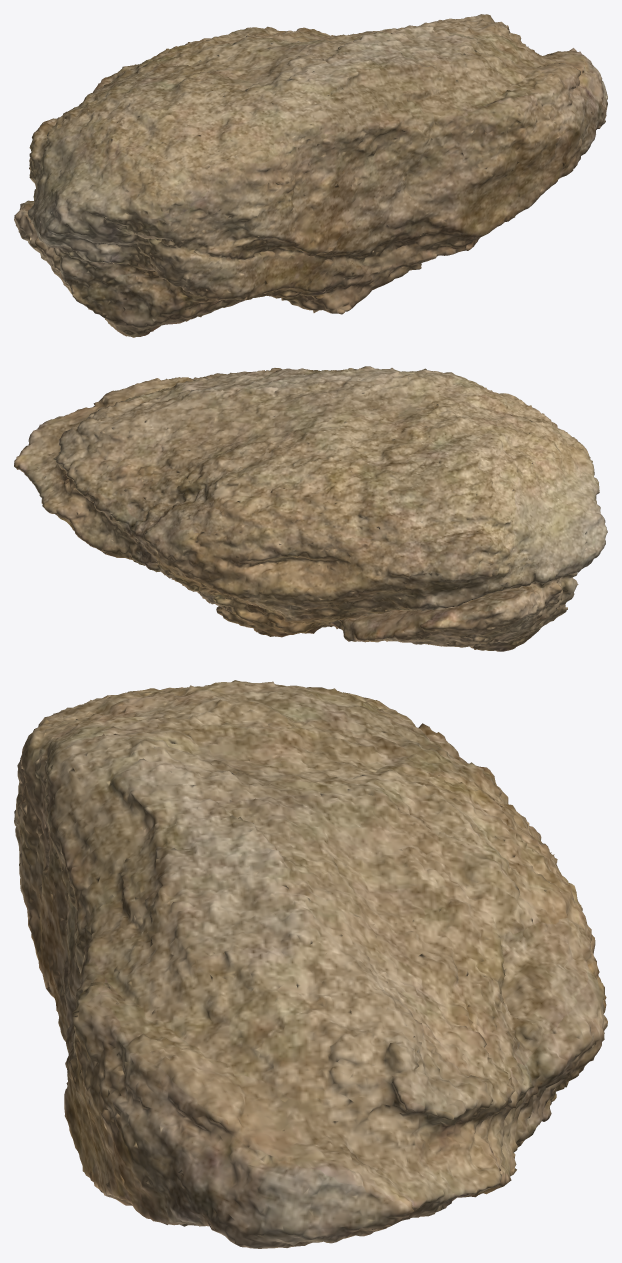
File: boulder_large_low.glb
The picture shows the model from 3 angles, top to bottom: view 1: azimuth 30°, elevation 25°; view 2: azimuth 150°, elevation 25°; view 3: azimuth 270°, elevation 25°; orthographic projection. The views are drawn at different scales.
Visible parts, largest first — view 1: namaqualand_boulder_05; view 2: namaqualand_boulder_05; view 3: namaqualand_boulder_05.
Part boxes in pixels (left/top/right/bottom): namaqualand_boulder_05: left=14, top=14, right=607, bottom=337; namaqualand_boulder_05: left=14, top=366, right=607, bottom=651; namaqualand_boulder_05: left=14, top=680, right=607, bottom=1248.
Bounding box in the file's own units: 1.36 × 0.5384 × 0.7481.
Materials: 1 (1 with a texture image).
